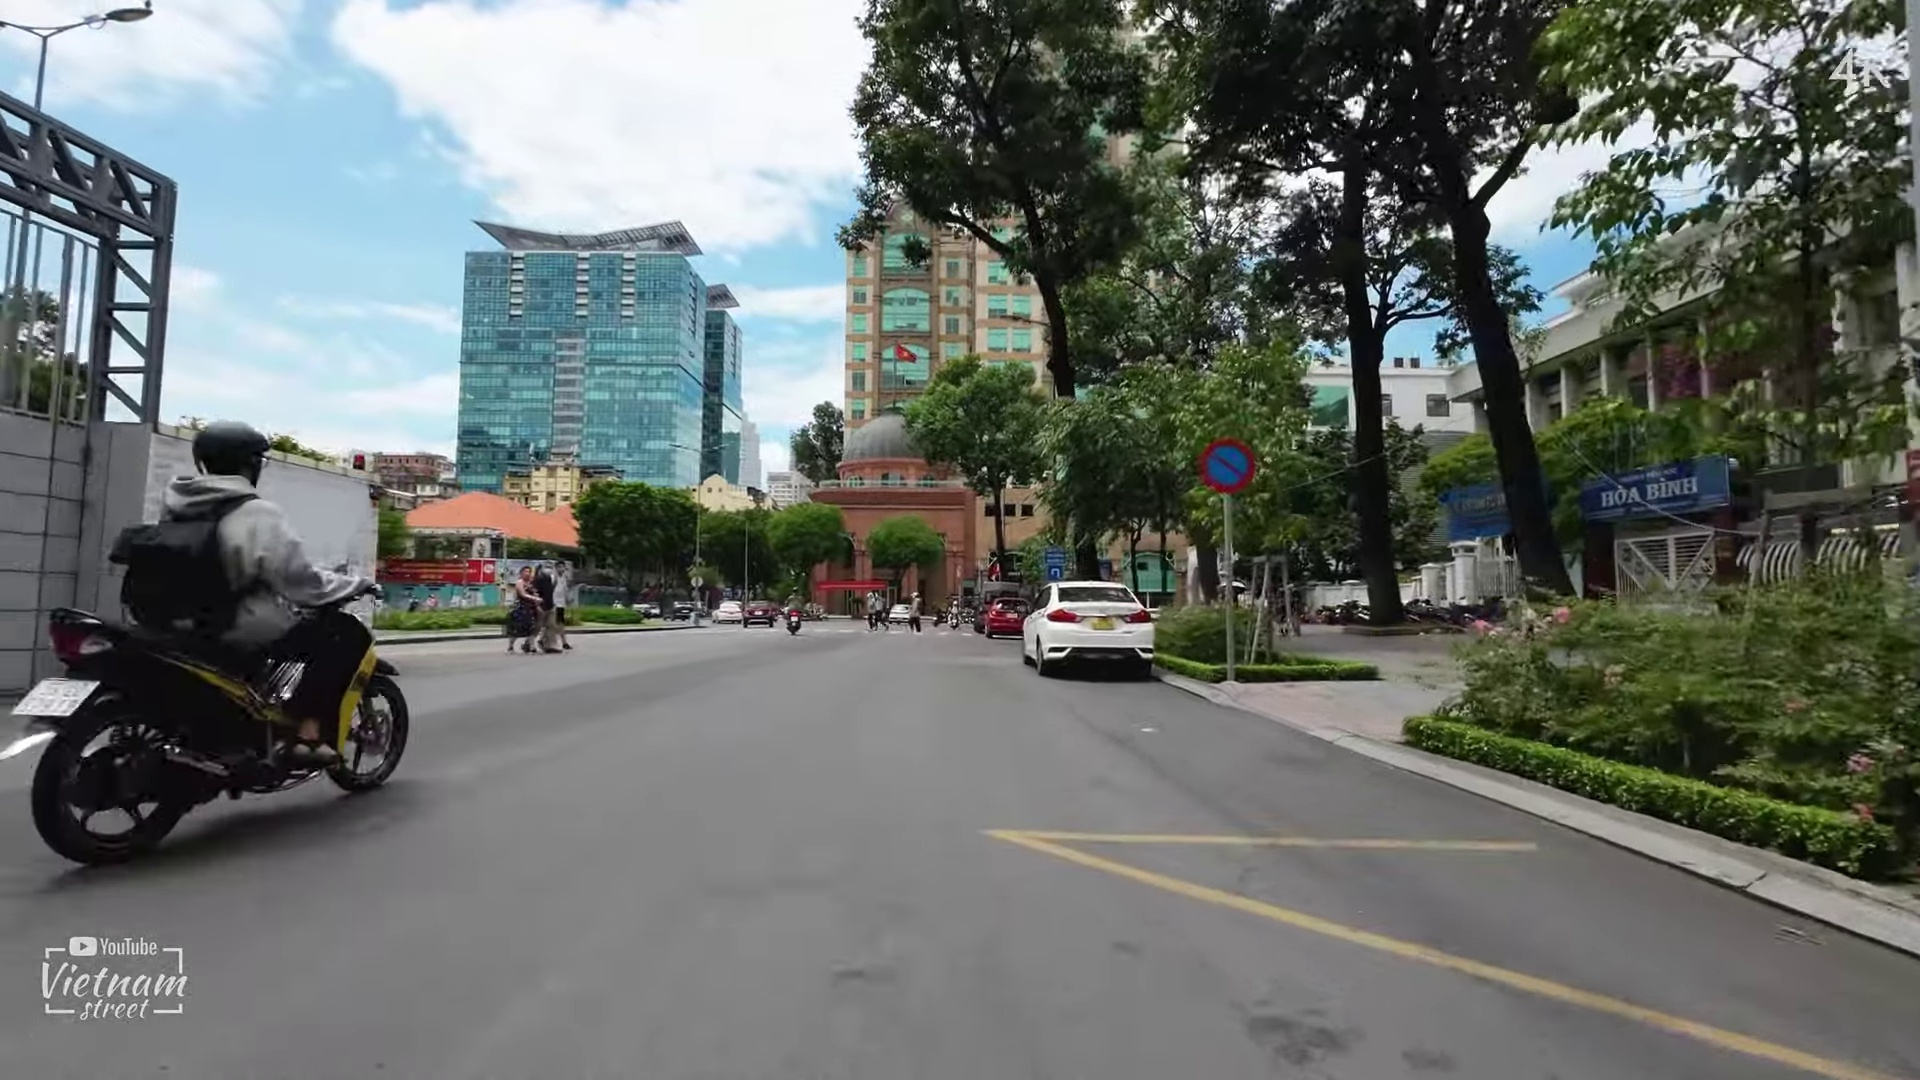cam_do_xe: (1197, 436, 1261, 497)
